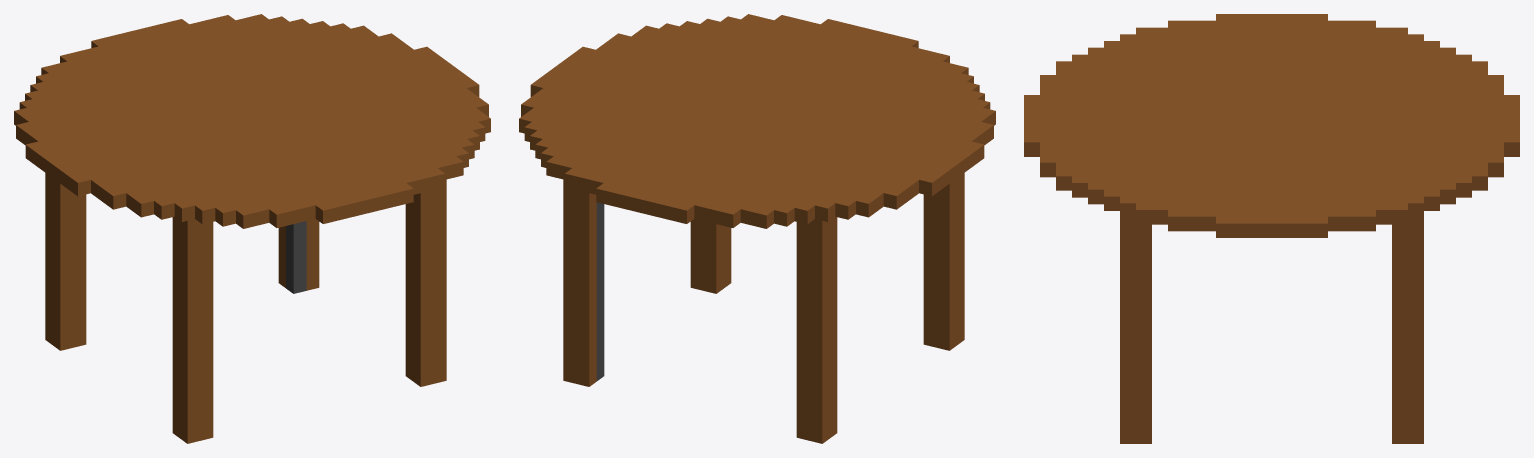
The model's file is Food_Shop-3.obj.
The picture shows the model from 3 angles, left to right: view 1: azimuth 30°, elevation 25°; view 2: azimuth 150°, elevation 25°; view 3: azimuth 270°, elevation 25°; orthographic projection. The views are drawn at different scales.
Bounding box in the file's own units: 3.1 × 1.8 × 3.1.
Materials: 1 (1 with a texture image).
